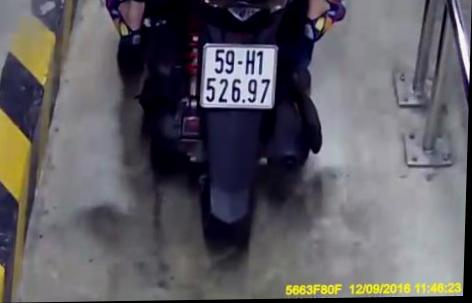License_Plate: (191, 38, 289, 113)
